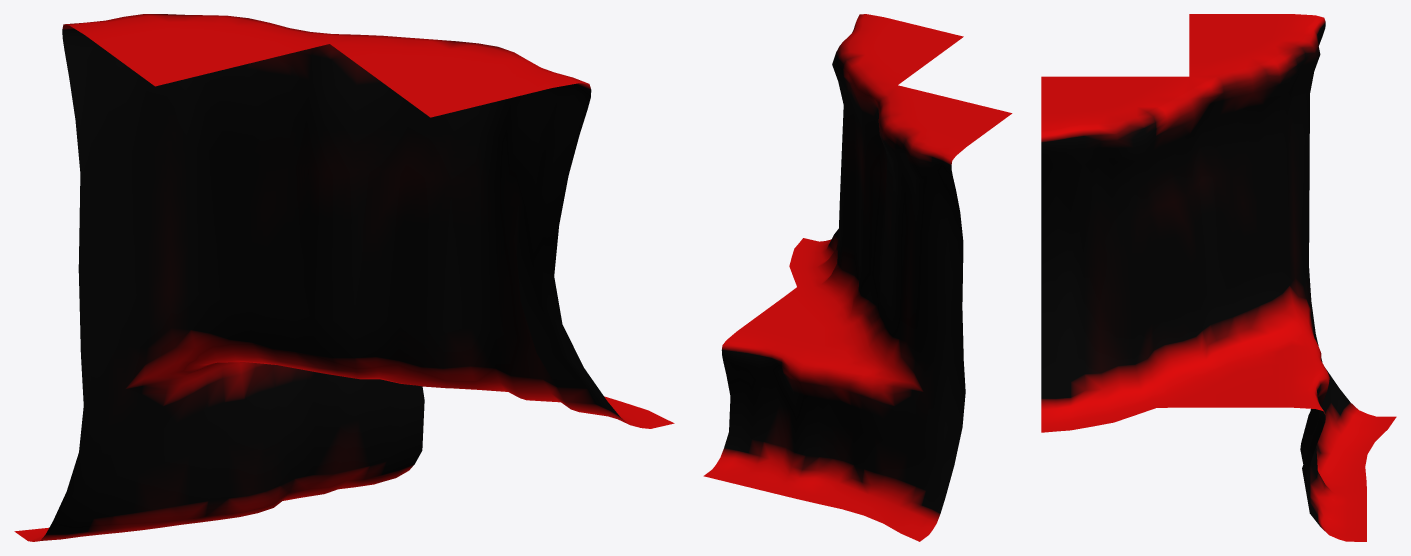
Rendered from Cliff 1x3x2 Foreground.fbx.
The picture shows the model from 3 angles, left to right: view 1: azimuth 30°, elevation 25°; view 2: azimuth 150°, elevation 25°; view 3: azimuth 270°, elevation 25°; orthographic projection. The views are drawn at different scales.
Parts seen in each view (by area): view 1: Cliff 1x3x2 Foreground; view 2: Cliff 1x3x2 Foreground; view 3: Cliff 1x3x2 Foreground.
Part boxes in pixels (left/top/right/bottom): Cliff 1x3x2 Foreground: left=14, top=14, right=674, bottom=541; Cliff 1x3x2 Foreground: left=703, top=14, right=1012, bottom=541; Cliff 1x3x2 Foreground: left=1041, top=14, right=1396, bottom=541.
Bounding box in the file's own units: 2.4 × 3 × 2.4.
